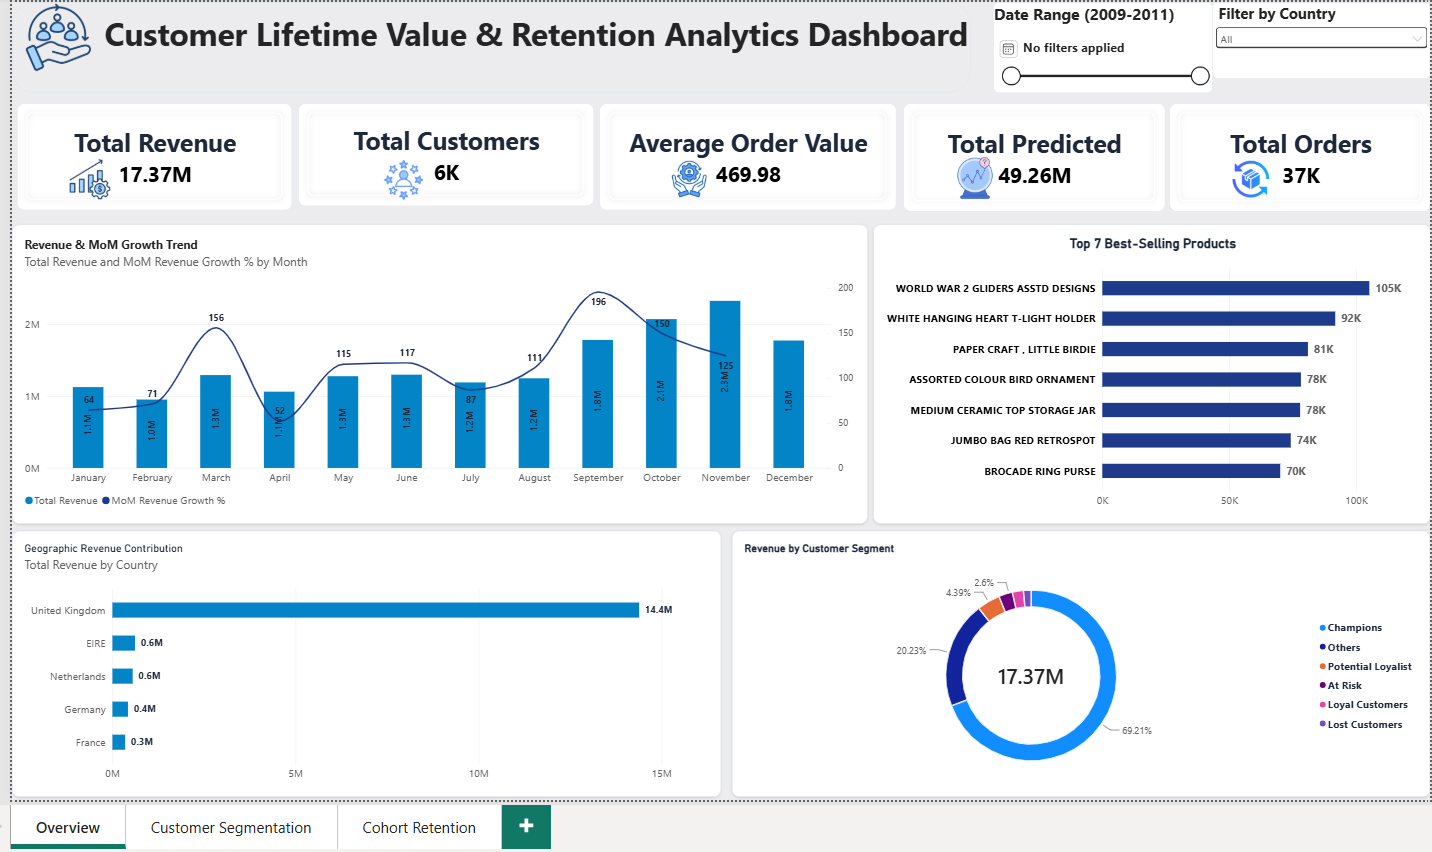

What the dashboard file says about the page in this screenshot:
{"tool":"powerbi","page":{"name":"Overview","canvas":[1920,1080],"ordinal":0},"visuals":[{"type":"cardVisual","title":"Total Revenue","fields":{"Data":["_Measures.Total Revenue"]},"box":[7.3,137.6,372.4,144.9],"z":0},{"type":"cardVisual","fields":{"Data":["_Measures.Total Customers"]},"box":[387.5,137.6,399.9,139.4],"z":1000},{"type":"cardVisual","fields":{"Data":["_Measures.Average Order Value"]},"box":[795.1,137.6,401.7,144.9],"z":2000},{"type":"cardVisual","fields":{"Data":["_Measures.Total Predicted Revenue"]},"box":[1204.6,137.6,354,146.7],"z":3000},{"type":"clusteredBarChart","title":"Top 7 Best-Selling Products","fields":{"Category":["cleaned_online_retail.Description"],"Y":["Sum(cleaned_online_retail.Quantity)"]},"box":[1165.3,300.5,755.1,404.5],"z":4000},{"type":"cardVisual","fields":{"Data":["_Measures.Total Orders"]},"box":[1566,137.6,354,146.7],"z":5000},{"type":"slicer","title":"Date Range (2009-2011)","fields":{"Values":["DateTable.Date"]},"box":[1327.1,0,296.6,123.3],"z":6000},{"type":"slicer","fields":{"Values":["cleaned_online_retail.Country"]},"box":[1623.3,0,296.6,104],"z":7000},{"type":"lineClusteredColumnComboChart","title":"Revenue & MoM Growth Trend","fields":{"Category":["DateTable.Date.Variation.Date Hierarchy.Year","DateTable.Date.Variation.Date Hierarchy.Month"],"Y":["_Measures.Total Revenue"],"Y2":["_Measures.MoM Revenue Growth %"]},"box":[0,300.5,1157.6,404.5],"z":8000},{"type":"clusteredBarChart","title":"Geographic Revenue Contribution","fields":{"Category":["cleaned_online_retail.Country"],"Y":["_Measures.Total Revenue"]},"box":[0,714.6,959.2,360.2],"z":9000},{"type":"donutChart","title":"Revenue by Customer Segment","fields":{"Category":["rfm_clv_table.Segment"],"Y":["_Measures.Total Revenue"]},"box":[974.6,714.6,945.7,360.2],"z":10000},{"type":"shape","box":[0,0,1296.8,122.9],"z":11000},{"type":"textbox","box":[124.7,12.8,1203.3,91.7],"z":12000},{"type":"image","box":[7.3,1.8,111.9,91.7],"z":13000},{"type":"image","box":[64.2,210.9,82.5,56.9],"z":14000},{"type":"image","box":[480.6,212.8,99,55],"z":15000},{"type":"image","box":[865.8,212.8,100.9,53.2],"z":16000},{"type":"image","box":[1247.3,209.1,110.1,56.9],"z":17000},{"type":"image","box":[1632.5,214.6,84.4,49.5],"z":18000}]}

Visuals, with their boxes on the page's 1920x1080 design canvas (x1, y1, x2, y2). These are canvas units, not pixel positions in the 1432x852 screenshot, which may show the page scaled, cropped or inside an application window:
"Total Revenue" cardVisual: crop(7, 138, 380, 282)
cardVisual - _Measures.Total Customers: crop(388, 138, 787, 277)
cardVisual - _Measures.Average Order Value: crop(795, 138, 1197, 282)
cardVisual - _Measures.Total Predicted Revenue: crop(1205, 138, 1559, 284)
"Top 7 Best-Selling Products" clusteredBarChart: crop(1165, 300, 1920, 705)
cardVisual - _Measures.Total Orders: crop(1566, 138, 1920, 284)
"Date Range (2009-2011)" slicer: crop(1327, 0, 1624, 123)
slicer - cleaned_online_retail.Country: crop(1623, 0, 1920, 104)
"Revenue & MoM Growth Trend" lineClusteredColumnComboChart: crop(0, 300, 1158, 705)
"Geographic Revenue Contribution" clusteredBarChart: crop(0, 715, 959, 1075)
"Revenue by Customer Segment" donutChart: crop(975, 715, 1920, 1075)
shape: crop(0, 0, 1297, 123)
textbox: crop(125, 13, 1328, 104)
image: crop(7, 2, 119, 94)
image: crop(64, 211, 147, 268)
image: crop(481, 213, 580, 268)
image: crop(866, 213, 967, 266)
image: crop(1247, 209, 1357, 266)
image: crop(1632, 215, 1717, 264)
